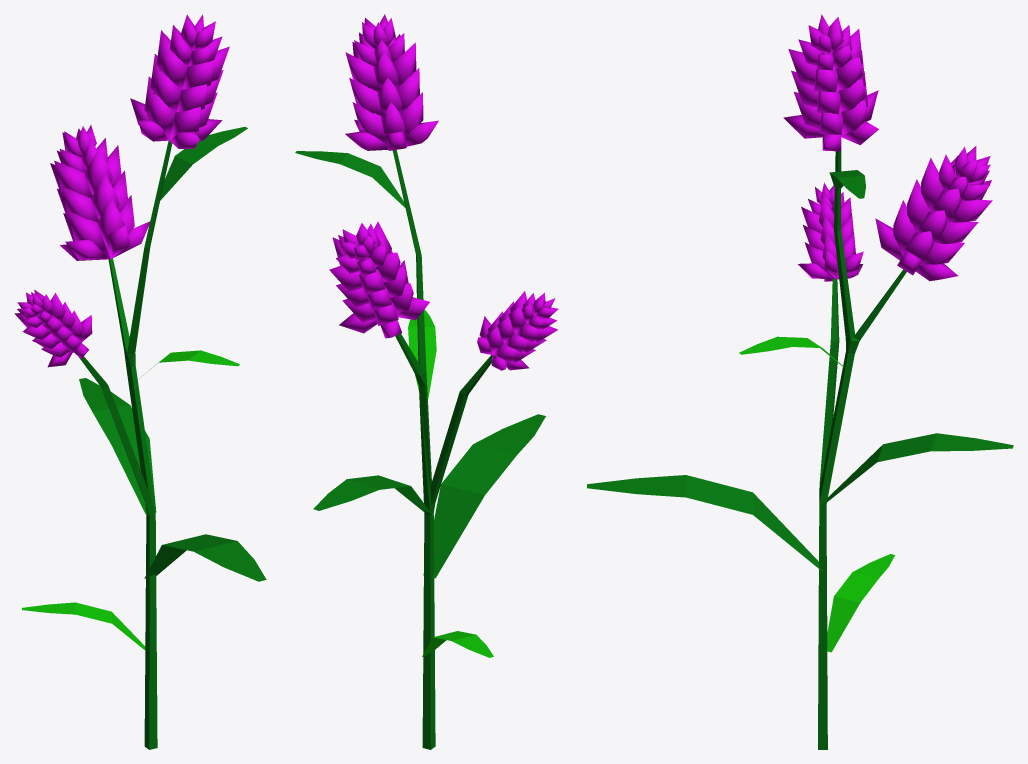
File: flowerPurple.glb
3 views of the same model, side by side, from view 1: azimuth 30°, elevation 25°; view 2: azimuth 150°, elevation 25°; view 3: azimuth 270°, elevation 25° (orthographic). The views are drawn at different scales.
Visible parts, largest first — view 1: 3; view 2: 3; view 3: 3.
Boxes of the visible parts, x1=… form: 3: x1=14, y1=14, x2=266, y2=749; 3: x1=295, y1=14, x2=558, y2=749; 3: x1=587, y1=14, x2=1013, y2=749.
Bounding box in the file's own units: 0.1265 × 0.3546 × 0.182.
